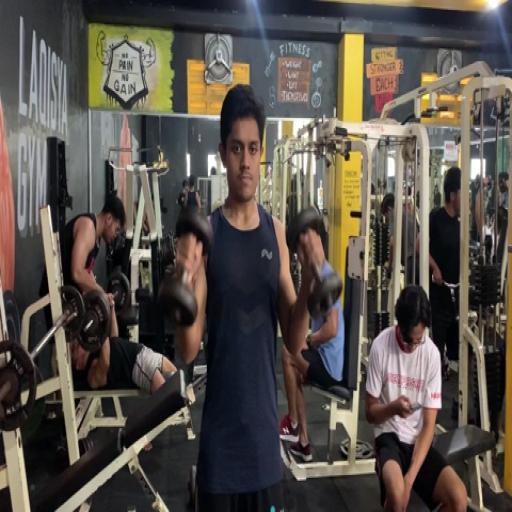exercise: (172, 81, 328, 511), (363, 283, 470, 511), (276, 205, 348, 465)
